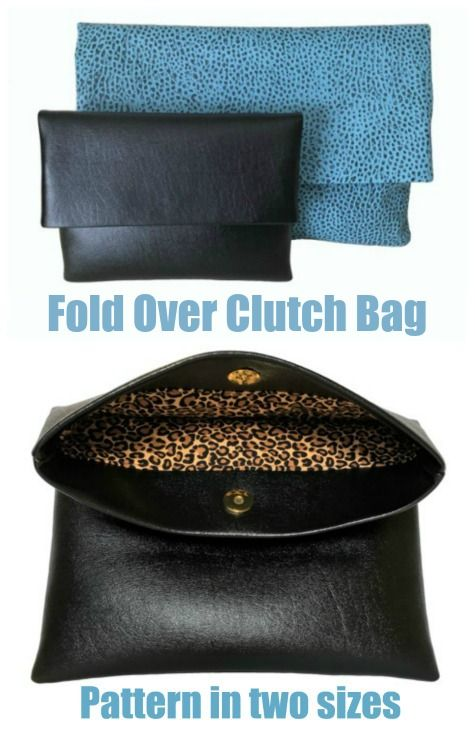cuero: (31, 109, 441, 684)
